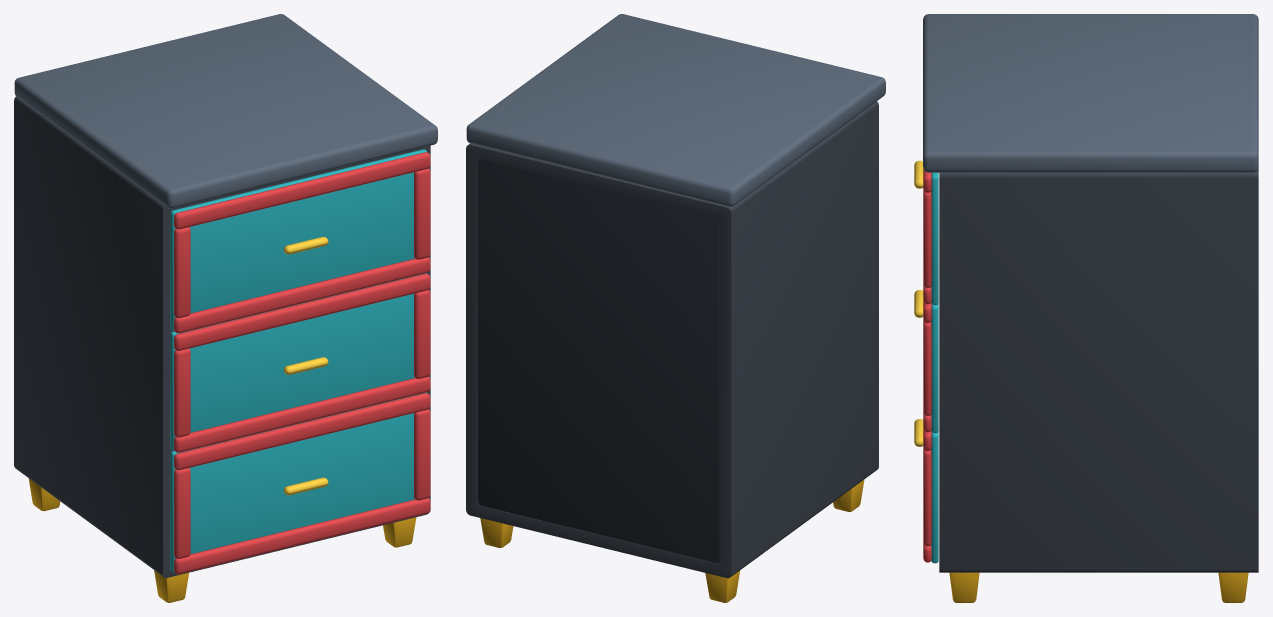
Rendered from gaveteiro_cozinha_largo_3gavetas_grafite.glb.
The picture shows the model from 3 angles, left to right: view 1: azimuth 30°, elevation 25°; view 2: azimuth 150°, elevation 25°; view 3: azimuth 270°, elevation 25°; orthographic projection. The views are drawn at different scales.
Visible parts, largest first — view 1: gaveteiro_cozinha_largo_3gavetas_grafite, gaveta_1, gaveta_3, gaveta_2; view 2: gaveteiro_cozinha_largo_3gavetas_grafite; view 3: gaveteiro_cozinha_largo_3gavetas_grafite, gaveta_1, gaveta_3, gaveta_2.
Part boxes in pixels (box(x1,y1,x2,y2)): gaveteiro_cozinha_largo_3gavetas_grafite: box(14, 14, 437, 602); gaveta_1: box(170, 149, 430, 333); gaveta_3: box(170, 392, 430, 574); gaveta_2: box(170, 273, 430, 452); gaveteiro_cozinha_largo_3gavetas_grafite: box(466, 14, 885, 602); gaveteiro_cozinha_largo_3gavetas_grafite: box(923, 14, 1258, 602); gaveta_1: box(914, 160, 938, 304); gaveta_3: box(914, 419, 938, 563); gaveta_2: box(914, 290, 938, 432).
Bounding box in the file's own units: 0.598 × 0.9 × 0.6147.
1 material, 1 textured.
